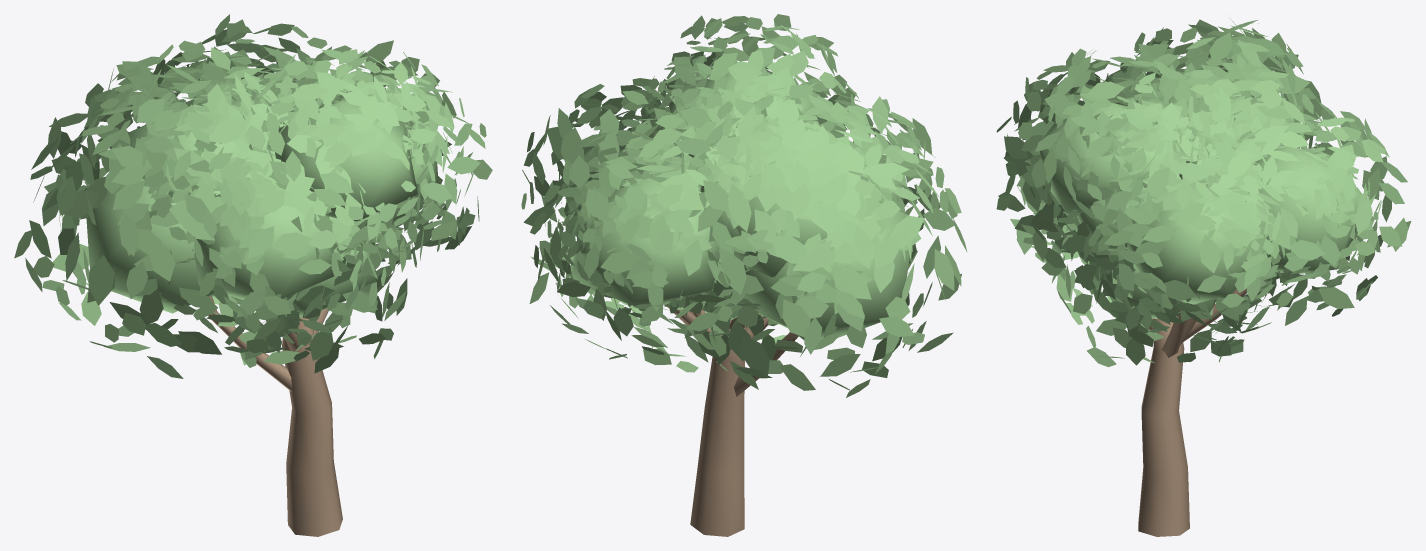
Rendered from tree_round_C.glb.
3 views of the same model, side by side, from view 1: azimuth 30°, elevation 25°; view 2: azimuth 150°, elevation 25°; view 3: azimuth 270°, elevation 25° (orthographic). The views are drawn at different scales.
Parts seen in each view (by area): view 1: tree_round_C; view 2: tree_round_C; view 3: tree_round_C.
Part boxes in pixels (x1,y1,x2,y2): tree_round_C: [14, 14, 492, 536]; tree_round_C: [521, 14, 967, 536]; tree_round_C: [996, 17, 1411, 536].
Size of the model in its own units: 1.71 by 1.89 by 1.53.
